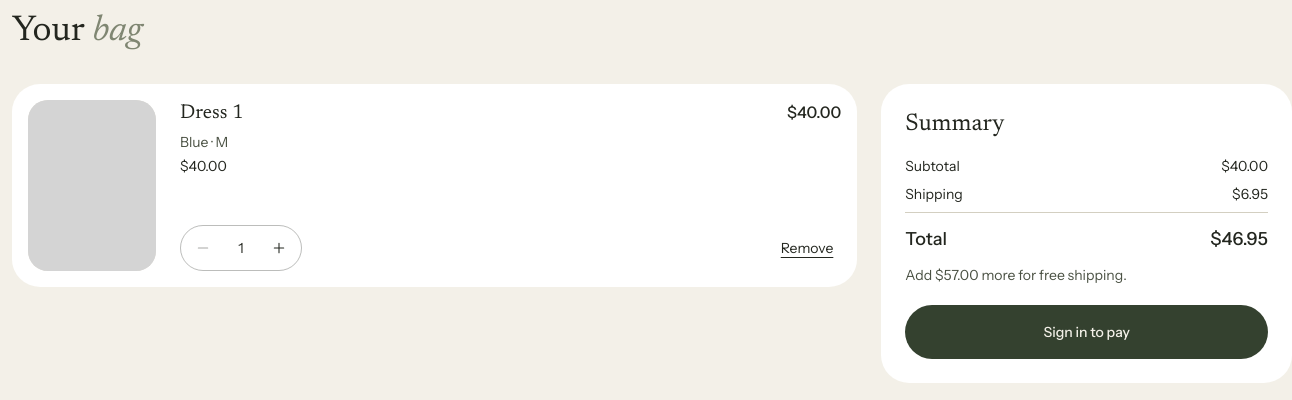
it: CartPage › a guest changing the bag › raises the quantity in the browser and prices the bag again
Expected: the link "Dress 1" is shown, [180,103,243,123]
Click the button named "Increase quantity".
click(279, 248)  # box [257,226,301,270]
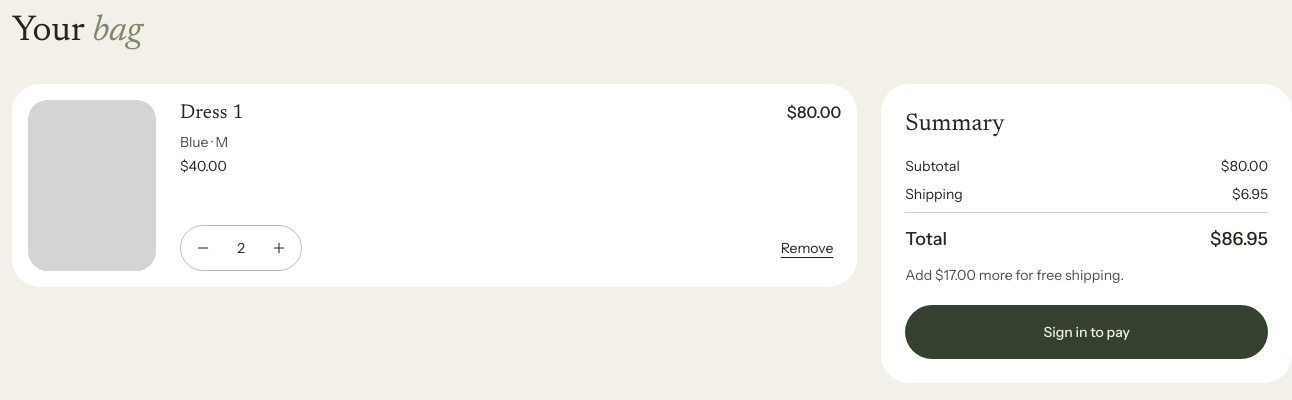
Result: the text "$80.00" in the row of "Dress 1" is shown at [787,102,841,122]
